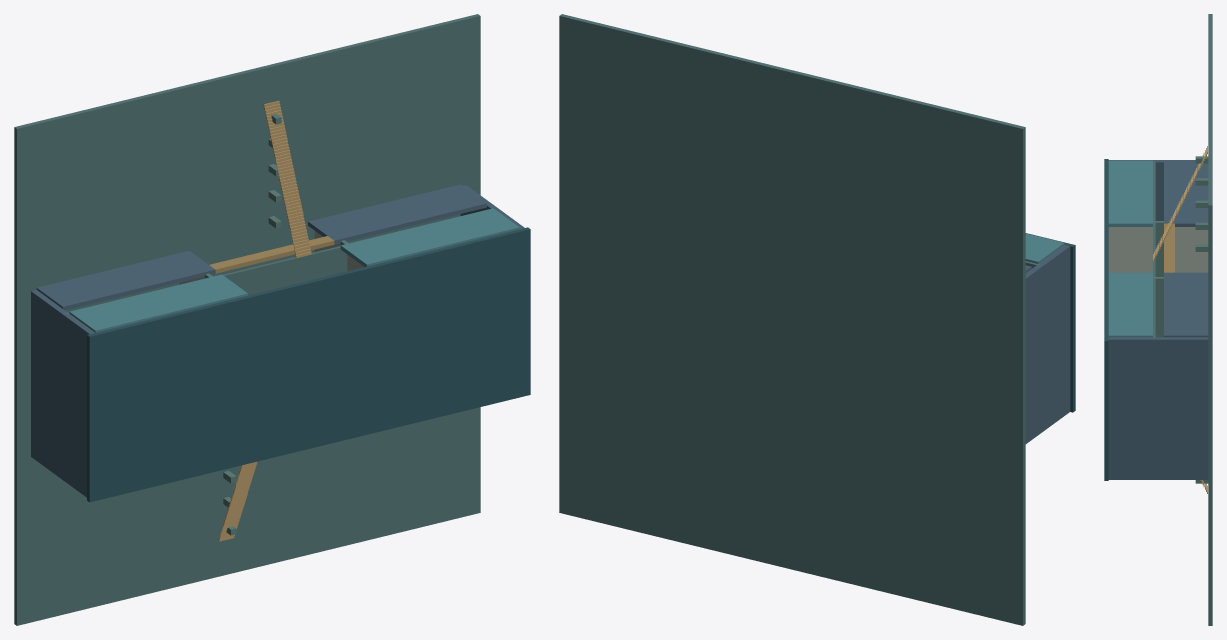
File: b9_shared_civic_seam.obj
3 views of the same model, side by side, from view 1: azimuth 30°, elevation 25°; view 2: azimuth 150°, elevation 25°; view 3: azimuth 270°, elevation 25° (orthographic). The views are drawn at different scales.
Size of the model in its own units: 82 by 84 by 19.6.
